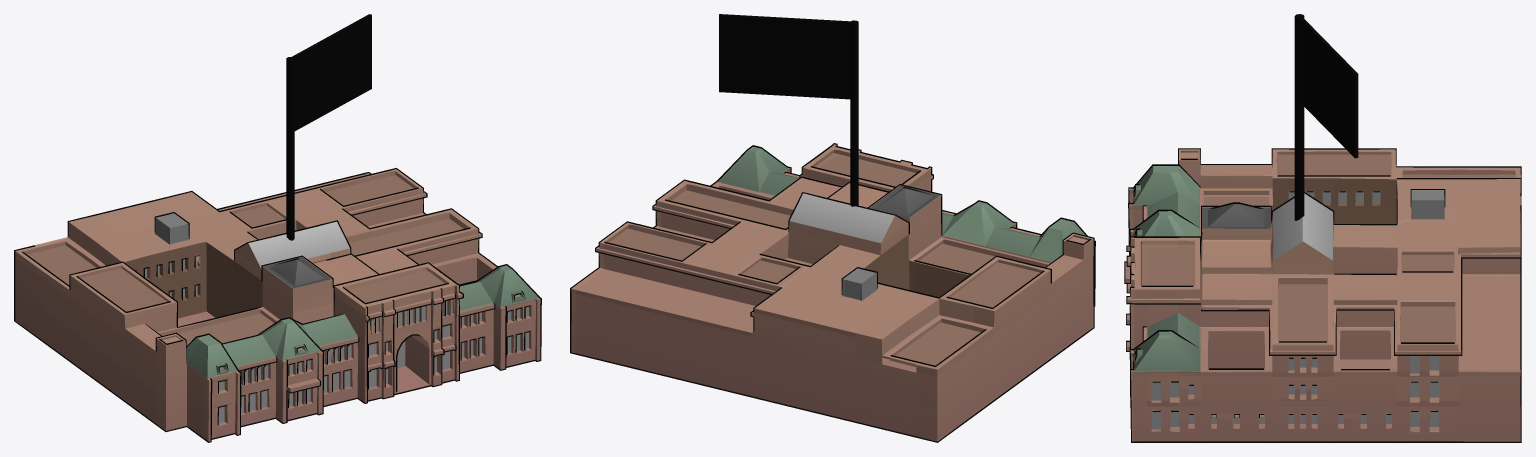
File: Evento CABA.fbx
The picture shows the model from 3 angles, left to right: view 1: azimuth 30°, elevation 25°; view 2: azimuth 150°, elevation 25°; view 3: azimuth 270°, elevation 25°; orthographic projection. The views are drawn at different scales.
Parts seen in each view (by area): view 1: Cylinder; view 2: Cylinder; view 3: Cylinder.
Boxes of the visible parts, box(x1,y1,x2,y2) form: Cylinder: box(14, 14, 541, 442); Cylinder: box(570, 14, 1095, 442); Cylinder: box(1124, 14, 1521, 442).
Bounding box in the file's own units: 1188 × 925 × 1011.
Materials: 2 (1 with a texture image).
